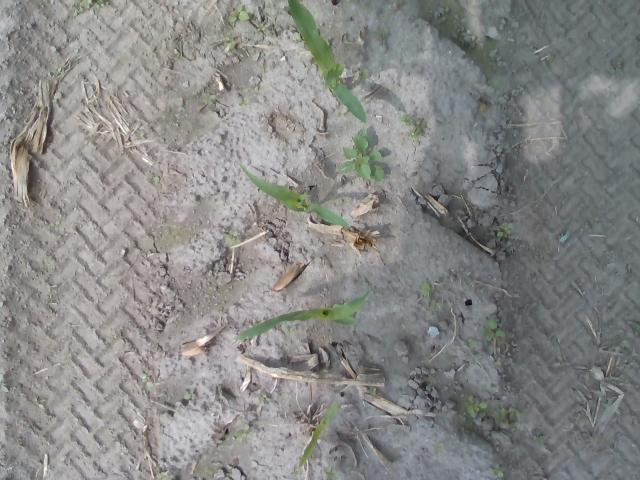Maize: (283, 0, 368, 122), (235, 160, 352, 234), (232, 286, 374, 342), (294, 398, 342, 467)
Weeds: (333, 125, 385, 182), (466, 36, 504, 88), (464, 393, 521, 426), (467, 316, 508, 353), (419, 280, 444, 311), (70, 0, 112, 16), (400, 112, 423, 139), (227, 2, 252, 24), (198, 89, 221, 106), (230, 425, 252, 442), (496, 222, 518, 239), (220, 35, 238, 50), (486, 464, 502, 478), (224, 230, 239, 244), (183, 390, 199, 400), (254, 22, 267, 32), (149, 176, 160, 184), (259, 395, 269, 403)
